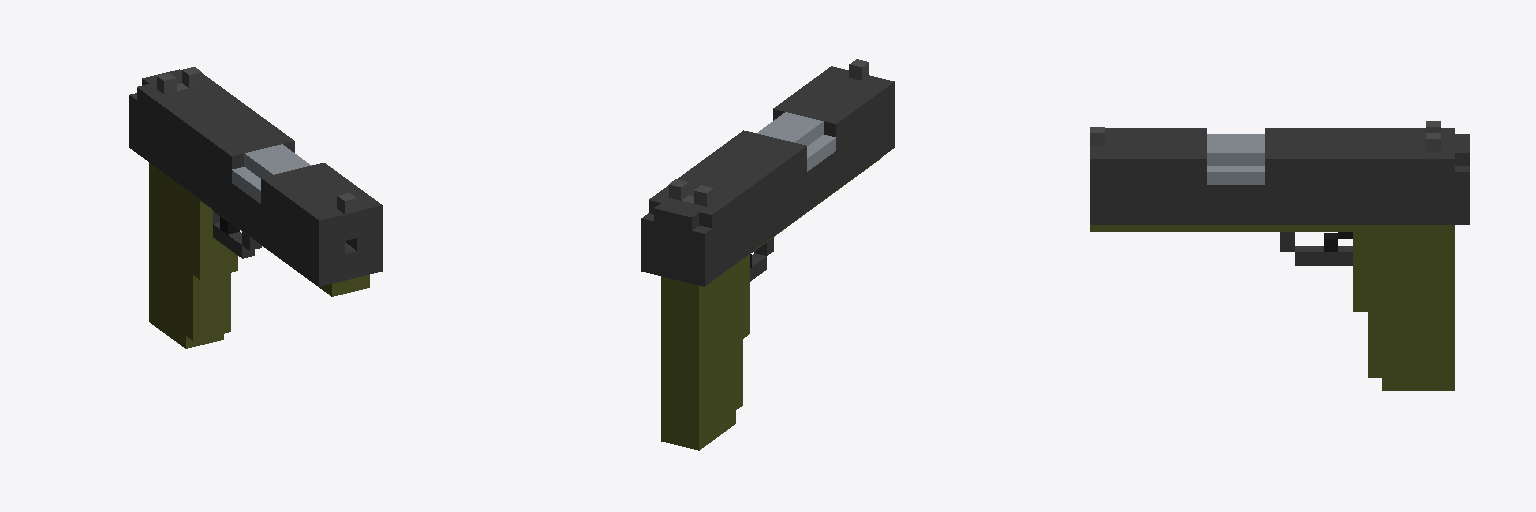
3 renders of one model, left to right at view 1: azimuth 30°, elevation 25°; view 2: azimuth 150°, elevation 25°; view 3: azimuth 270°, elevation 25°, orthographic.
Visible parts, largest first — view 1: object 1; view 2: object 1; view 3: object 1.
Part boxes in pixels (x1,y1,x2,y2): object 1: (129, 67, 382, 348); object 1: (641, 59, 894, 450); object 1: (1090, 121, 1469, 390).
Bounding box in the file's own units: 0.5 × 1.9 × 2.6.
Materials: 1 (1 with a texture image).